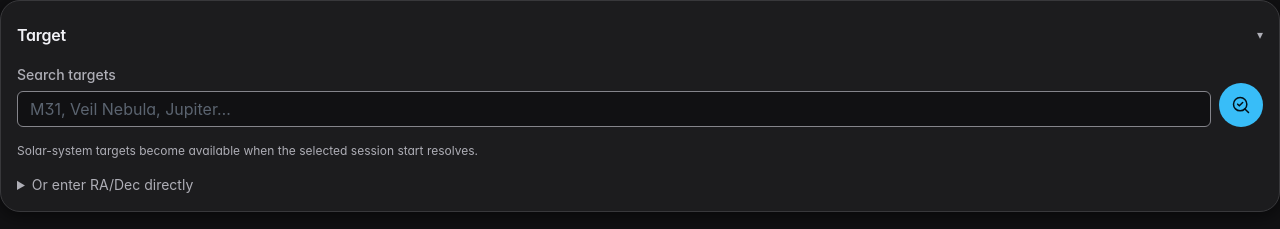
it: TargetPicker › shows suggestions and selects one with a touch pointer
In the dropdown labelled "Search targets": (614, 109) [17,91,1211,127], type "Andr"
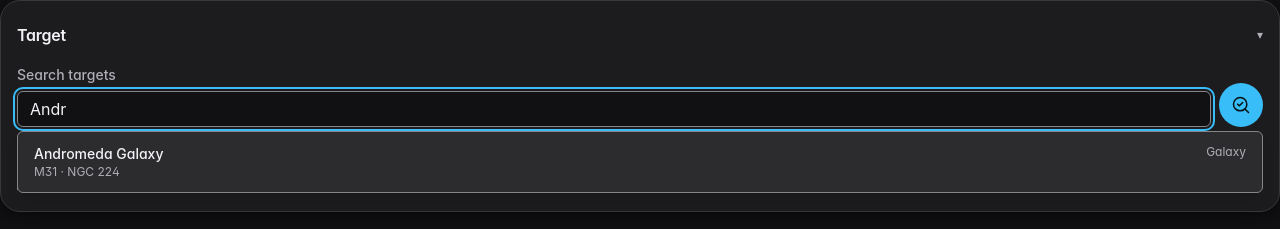
Expected: the number of elements with class "break-words" is 2, [34,145,164,162]; [34,164,120,179]
